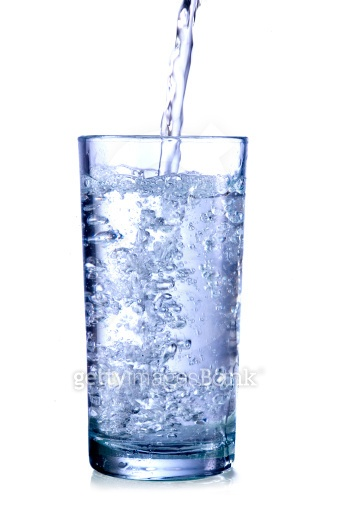glass of water: (73, 124, 253, 483)
